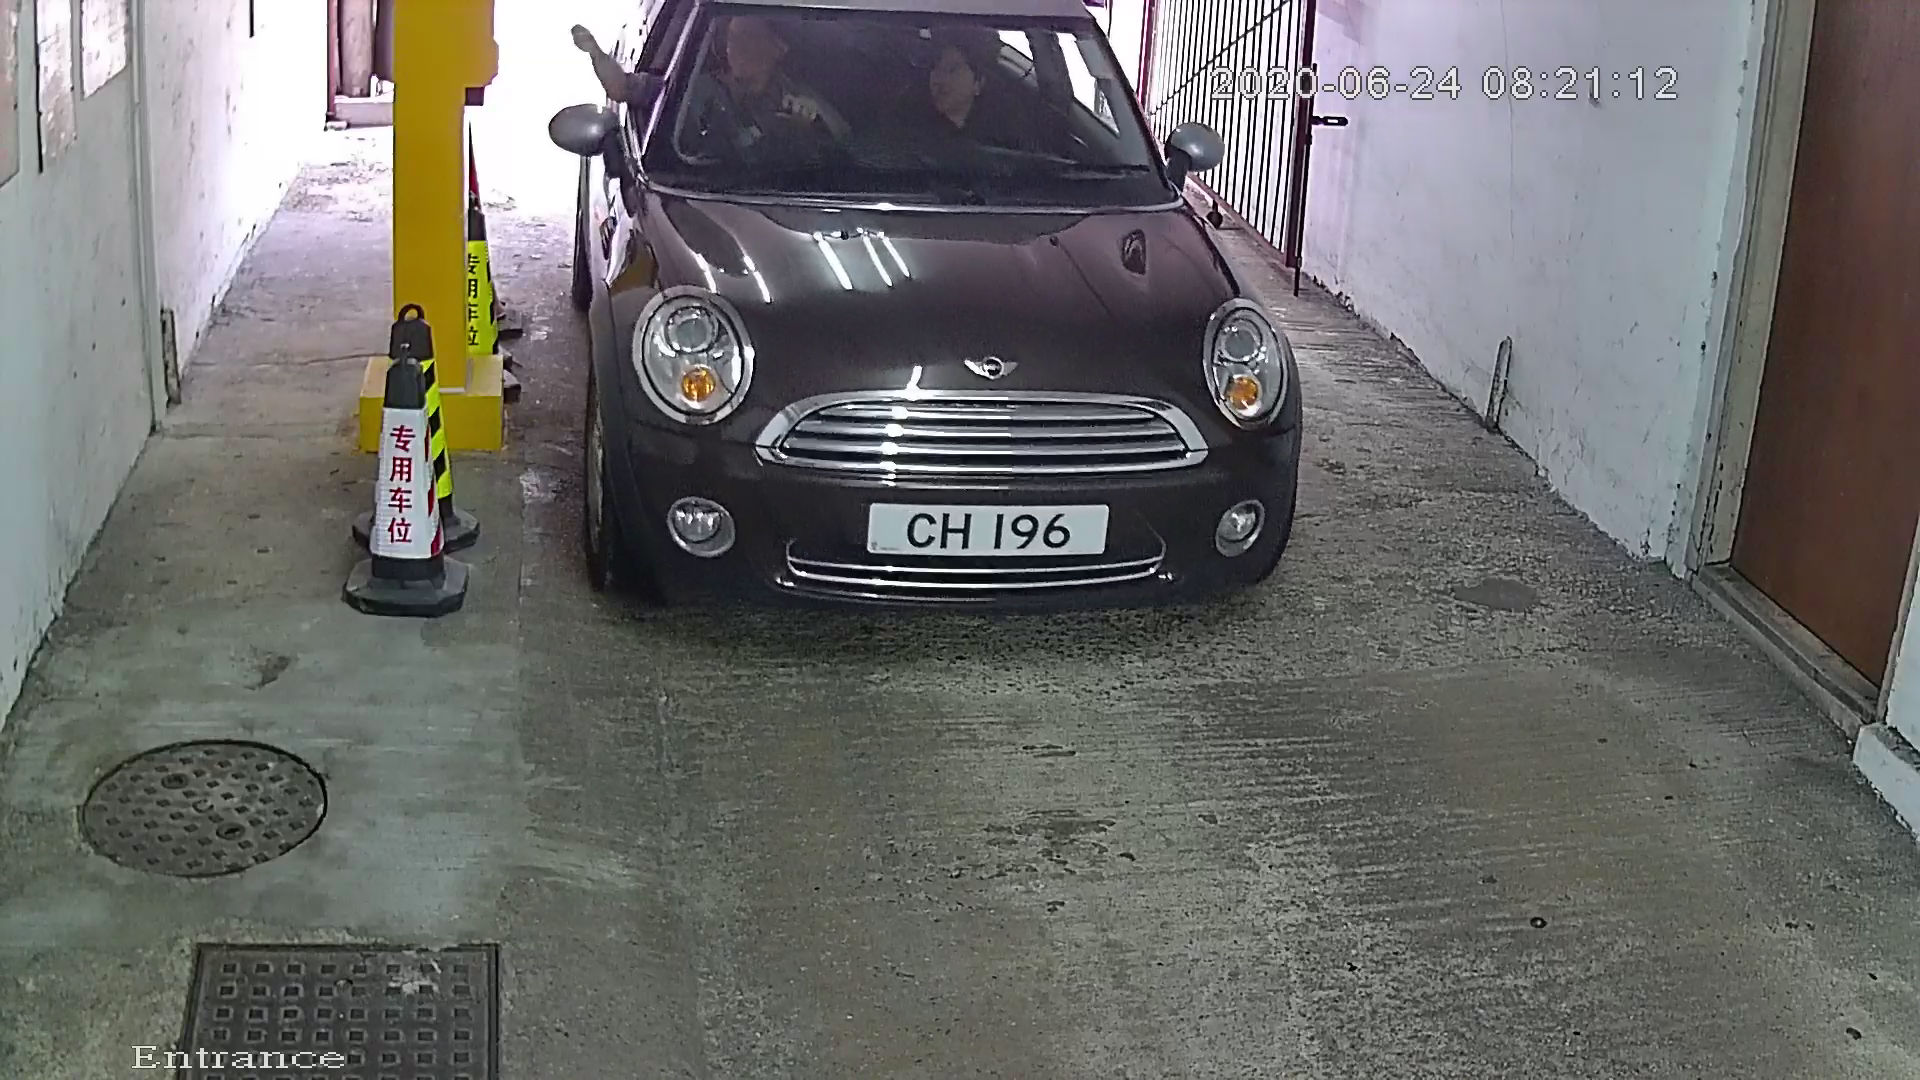privatecar: (513, 1, 1346, 670)
